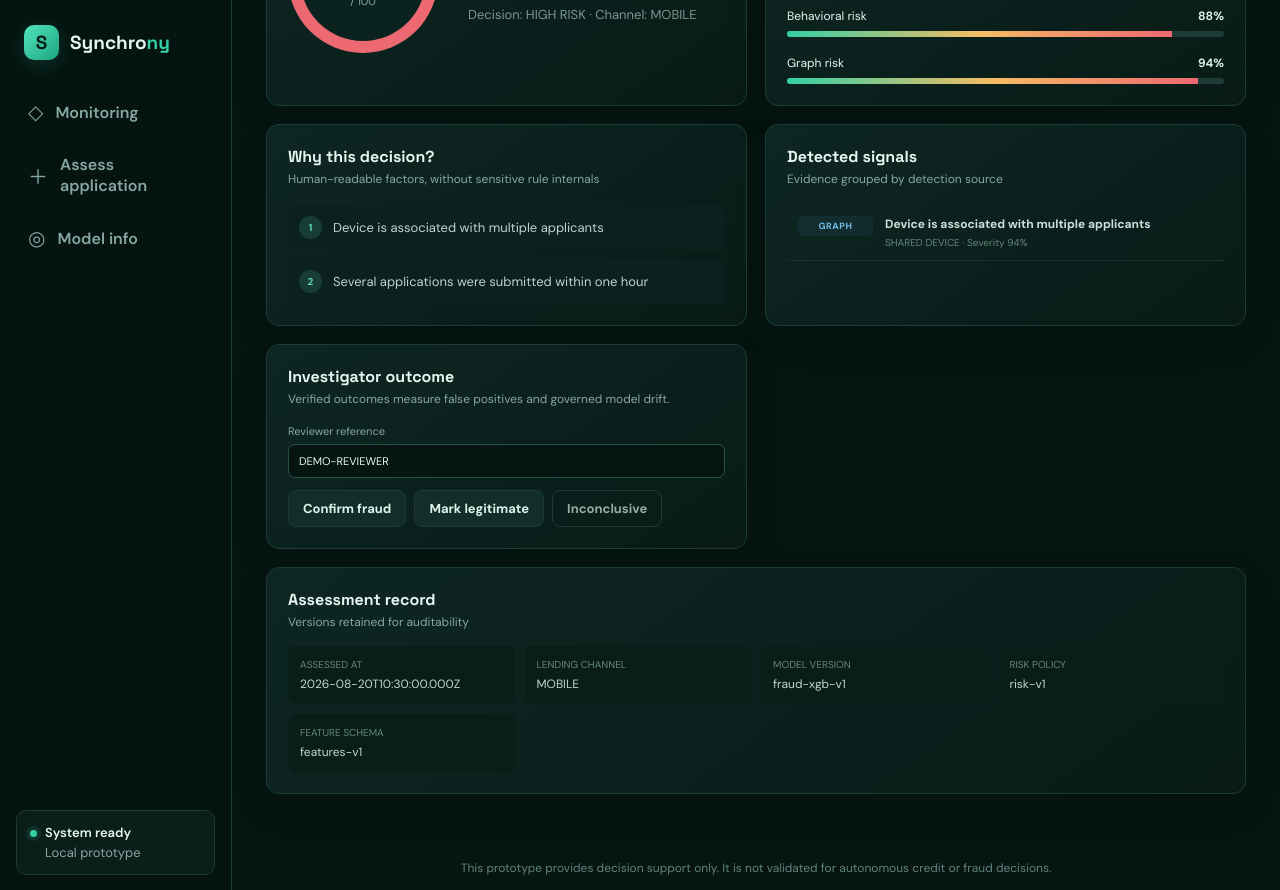
renders a complete, understandable investigation
(page scrolled)
Expected: the list item "Device is associated with multiple applicants" is shown, [333,219,604,236]
Expected: the text "fraud-xgb-v1" is shown, [773,676,846,692]
Click the button "Mark legitimate": (479,508) [414,490,544,527]
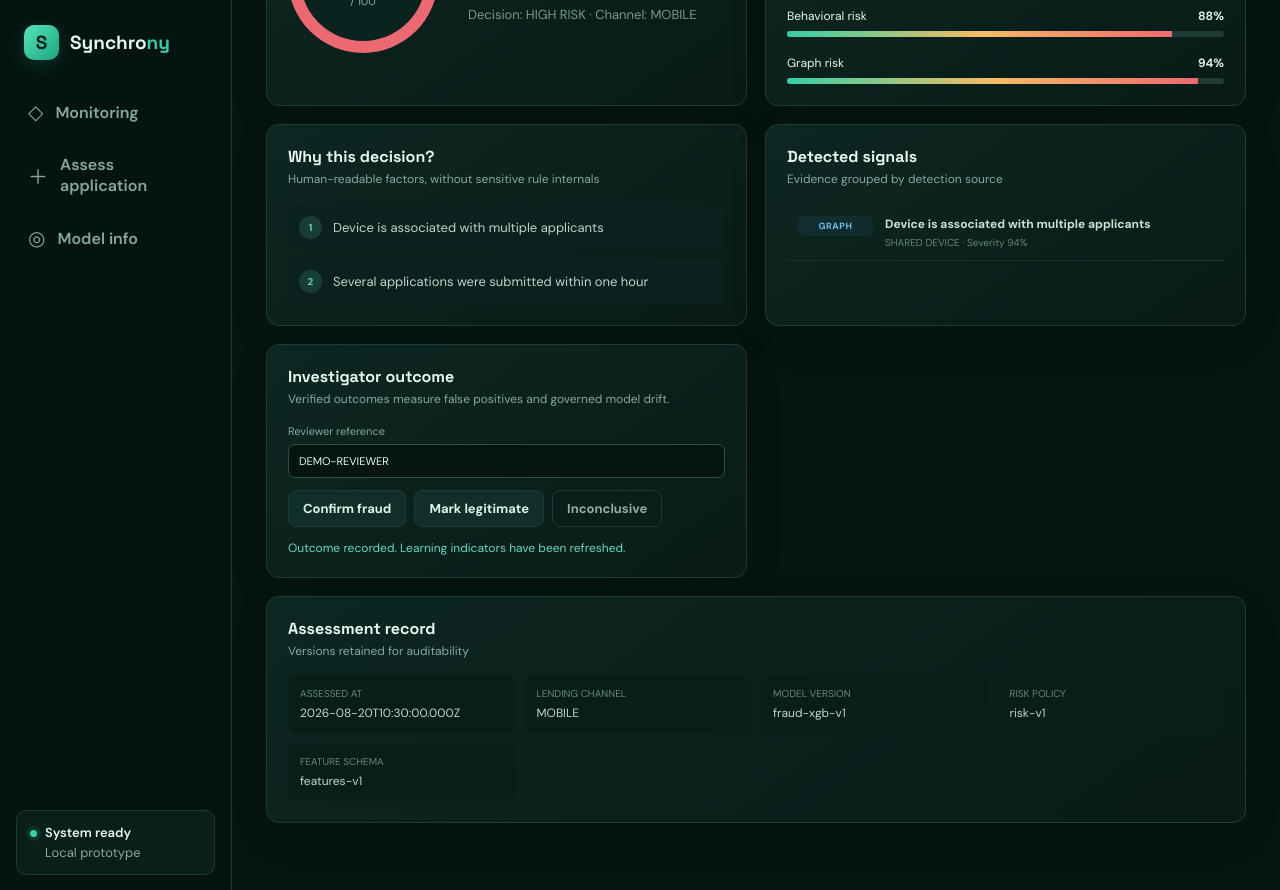
Now the text "Outcome recorded. Learning indicators have been refreshed." is shown, box [288,540,625,556]
